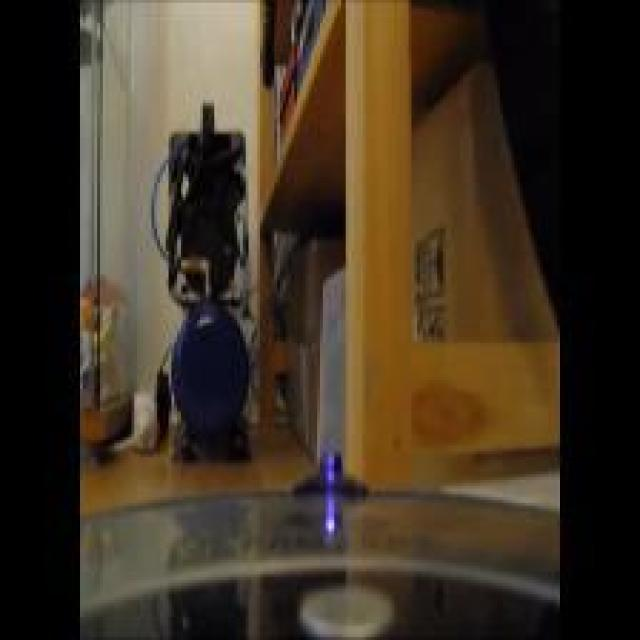other: (346, 311, 565, 486)
